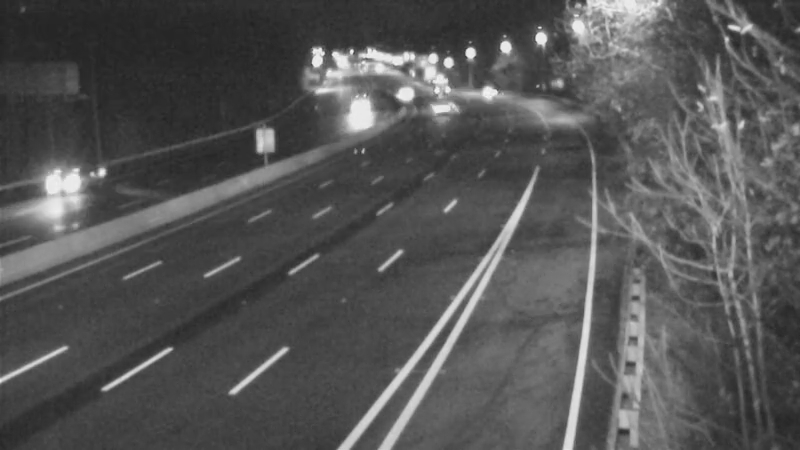vehicle: (24, 143, 104, 223), (460, 65, 510, 115), (411, 65, 461, 115), (378, 68, 428, 118), (411, 84, 461, 134), (334, 84, 384, 134)
